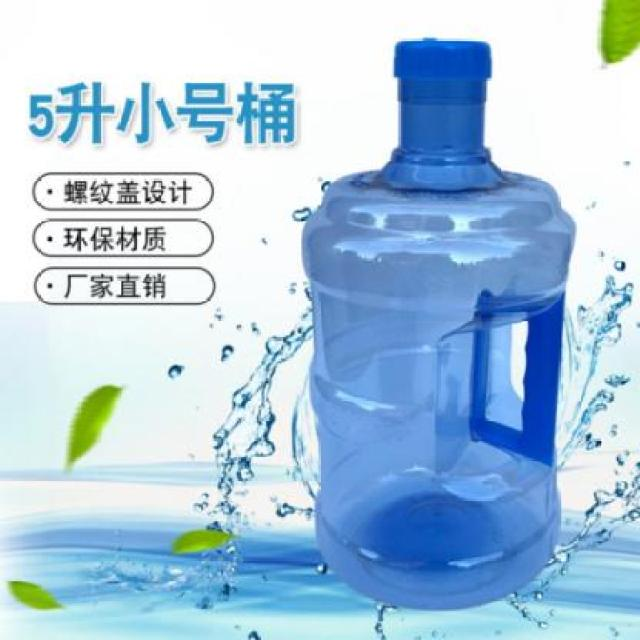coolerbottle: (295, 29, 581, 616)
